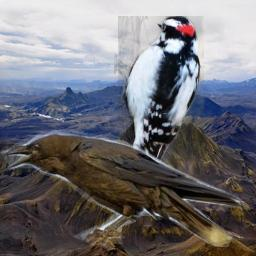Crow: (0, 128, 248, 247)
Woodpecker: (114, 16, 205, 198)
